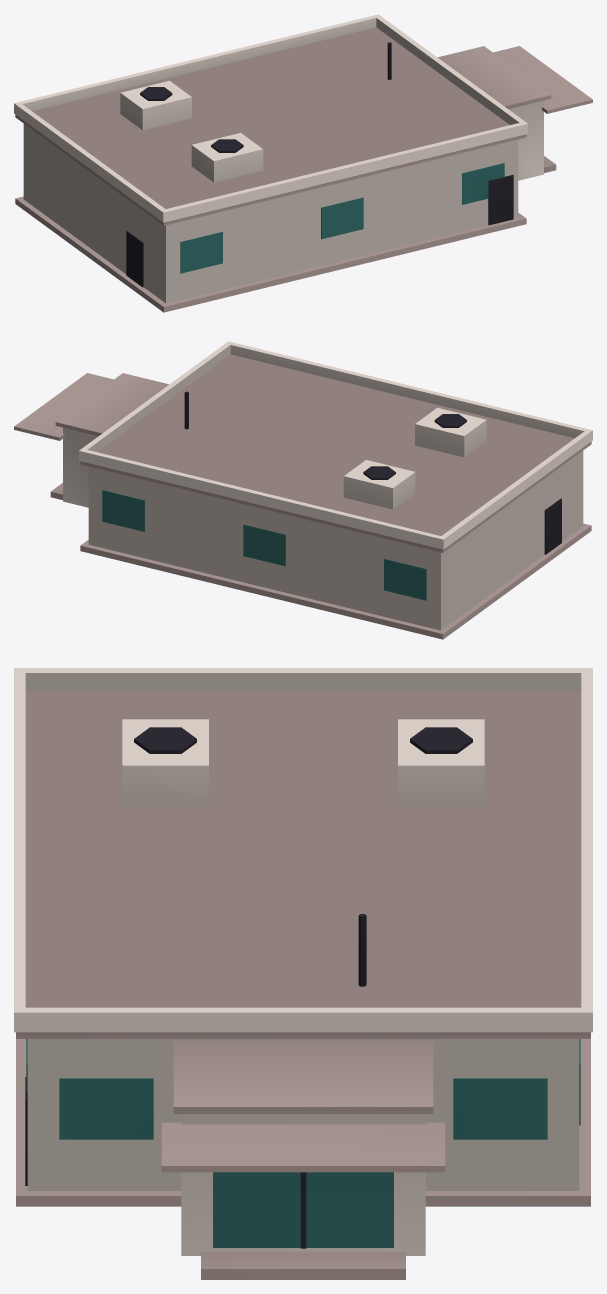
The model's file is bld.cure-lab-main.lod2.glb.
3 views of the same model, one above another, from view 1: azimuth 30°, elevation 25°; view 2: azimuth 150°, elevation 25°; view 3: azimuth 270°, elevation 25° (orthographic). The views are drawn at different scales.
Parts seen in each view (by area): view 1: body; view 2: body; view 3: body.
Part boxes in pixels (x1,y1,x2,y2): body: (14,14,592,312); body: (14,341,592,639); body: (14,668,592,1279).
Bounding box in the file's own units: 26.55 × 6.9 × 14.7.
